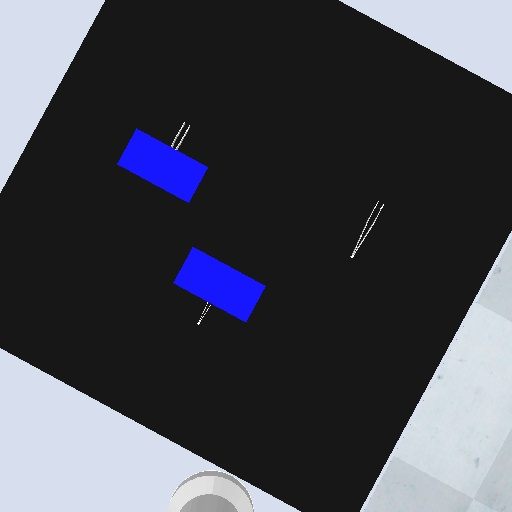pinza: (347, 199, 389, 262), (168, 120, 197, 152), (195, 300, 216, 327)
